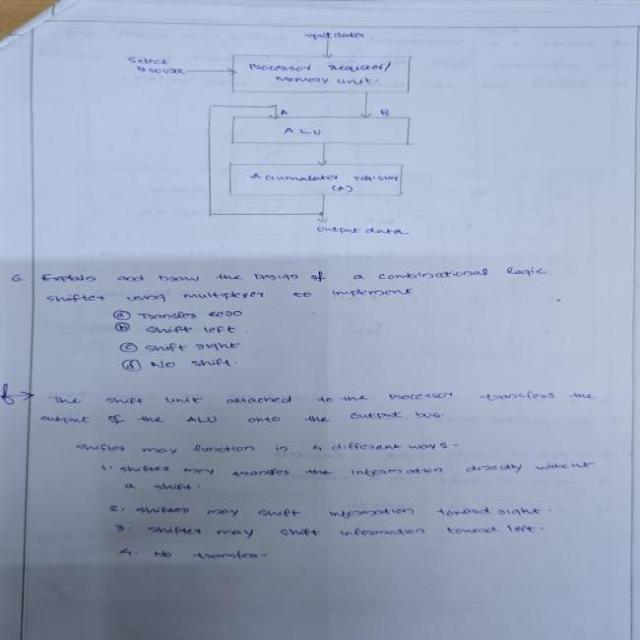Figure Detection - v3 Dataset Version2: (97, 21, 460, 247)
